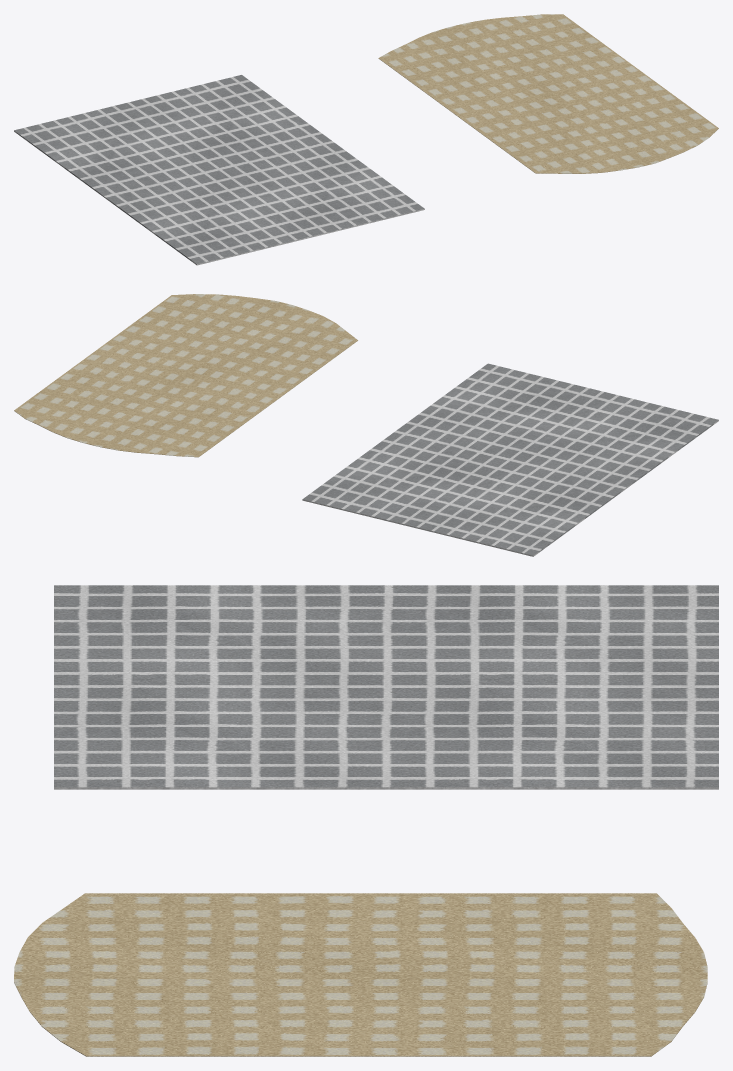
Rendered from hal─▒mal─▒.fbx.
The picture shows the model from 3 angles, top to bottom: view 1: azimuth 30°, elevation 25°; view 2: azimuth 150°, elevation 25°; view 3: azimuth 270°, elevation 25°; orthographic projection. The views are drawn at different scales.
Parts seen in each view (by area): view 1: Plane, Plane.001; view 2: Plane, Plane.001; view 3: Plane, Plane.001.
Part boxes in pixels (x1,y1,x2,y2): Plane: [14, 75, 424, 265]; Plane.001: [378, 14, 718, 173]; Plane: [302, 363, 718, 556]; Plane.001: [14, 294, 357, 457]; Plane: [54, 585, 718, 789]; Plane.001: [14, 893, 707, 1056].
Size of the model in its own units: 1496 by 3.36 by 947.
Materials: 2 (2 with a texture image).
